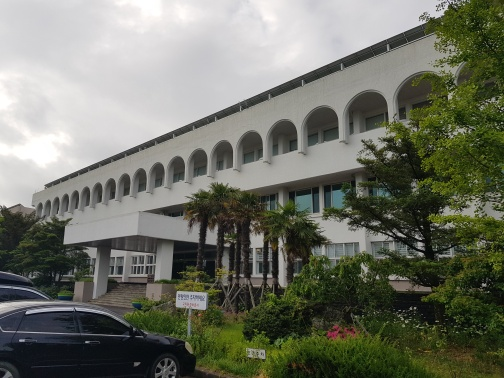Main Building of University: (29, 44, 460, 286), (50, 203, 205, 305), (166, 119, 301, 184), (60, 167, 149, 215)
